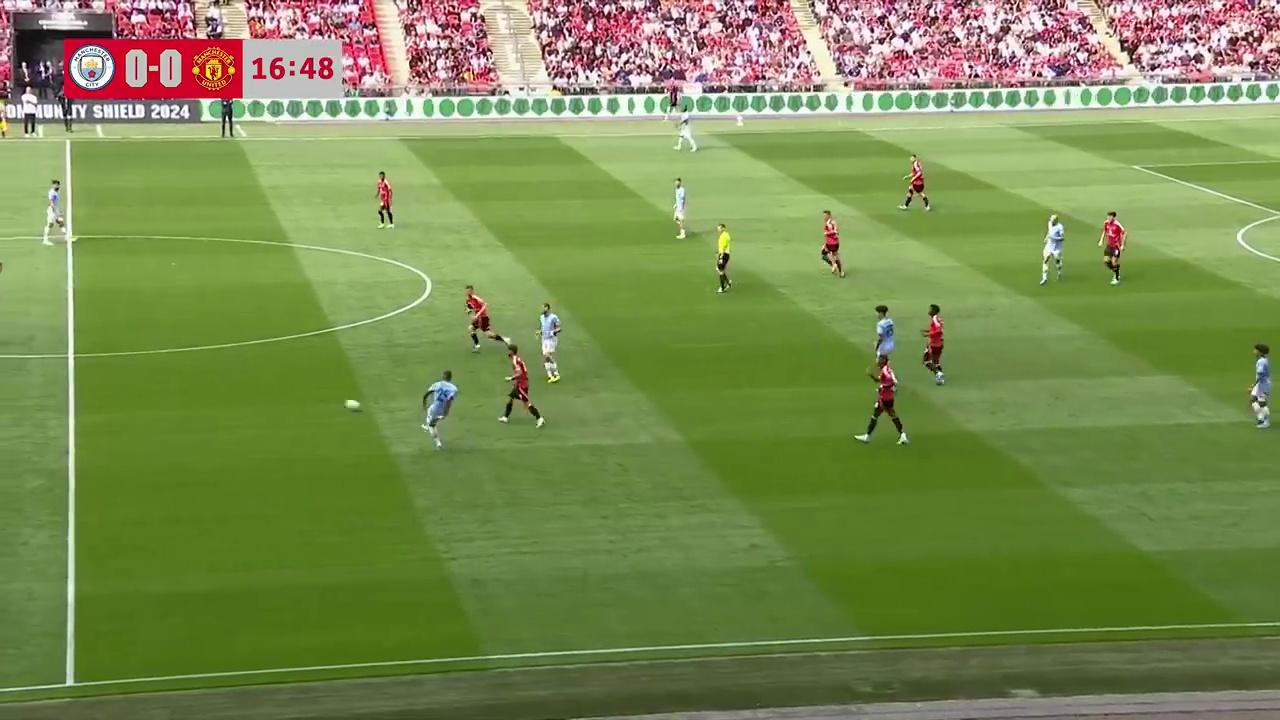ball: (343, 396, 362, 413)
player: (857, 359, 909, 445), (498, 346, 545, 427), (421, 370, 458, 448), (464, 285, 507, 352), (534, 302, 562, 383), (1099, 212, 1127, 285), (1248, 344, 1272, 429), (41, 179, 70, 246), (1039, 213, 1065, 285), (921, 304, 944, 384), (820, 210, 845, 277), (899, 157, 930, 211), (872, 304, 895, 373), (373, 171, 394, 229), (672, 177, 688, 239), (674, 113, 697, 151)
referee: (714, 223, 732, 293)
